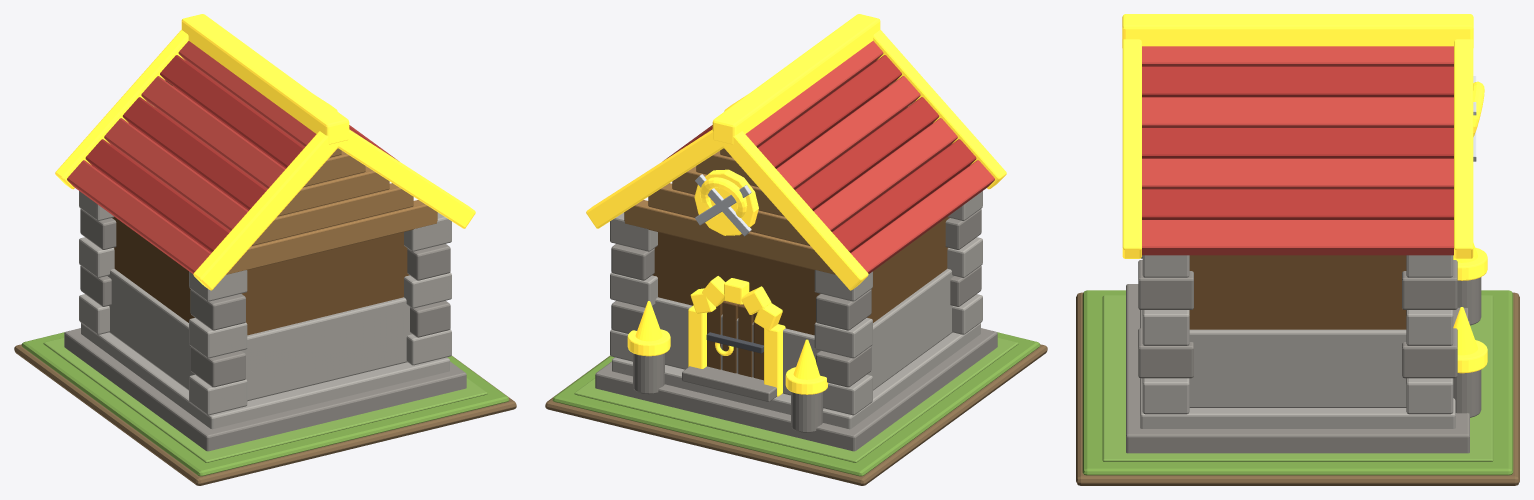
The model's file is hero_hall_lv4.glb.
3 renders of one model, left to right at view 1: azimuth 30°, elevation 25°; view 2: azimuth 150°, elevation 25°; view 3: azimuth 270°, elevation 25°, orthographic. The views are drawn at different scales.
Parts seen in each view (by area): view 1: HeroStoneWainscot, HeroHallCore, HeroPlinth1, Base_Grass, HeroPlinth2, RidgeBeam, Base_Inner, Base_Dirt, Bargeboard_-1_-1, Gable_-1_0, RoofSlope_-1_6, RoofSlope_-1_4 (+24 smaller); view 2: HeroHallCore, HeroPlinth1, HeroStoneWainscot, Base_Grass, RidgeBeam, Base_Inner, Base_Dirt, Bargeboard_1_-1, HeroPlinth2, RoofSlope_-1_6, RoofSlope_-1_4, RoofSlope_-1_3 (+44 smaller); view 3: HeroStoneWainscot, HeroHallCore, Base_Grass, RidgeBeam, RoofSlope_1_6, HeroPlinth1, RoofSlope_1_1, RoofSlope_1_4, Base_Inner, RoofSlope_1_2, RoofSlope_1_3, RoofSlope_1_5 (+20 smaller).
Boxes of the visible parts, x1,y1,x2,y2 form: HeroStoneWainscot: [108, 268, 412, 401]; HeroHallCore: [112, 217, 409, 335]; HeroPlinth1: [64, 328, 466, 451]; Base_Grass: [21, 332, 509, 476]; HeroPlinth2: [81, 323, 449, 429]; RidgeBeam: [181, 14, 349, 144]; Base_Inner: [43, 337, 487, 462]; Base_Dirt: [14, 344, 516, 485]; Bargeboard_-1_-1: [193, 131, 341, 290]; Gable_-1_0: [226, 200, 437, 274]; RoofSlope_-1_6: [67, 160, 211, 273]; RoofSlope_-1_4: [104, 118, 248, 231]; HeroHallCore: [652, 217, 949, 335]; HeroPlinth1: [595, 328, 997, 451]; HeroStoneWainscot: [652, 268, 953, 395]; Base_Grass: [552, 332, 1040, 476]; RidgeBeam: [712, 14, 880, 144]; Base_Inner: [574, 337, 1018, 462]; Base_Dirt: [545, 344, 1047, 485]; Bargeboard_1_-1: [720, 131, 868, 290]; HeroPlinth2: [612, 323, 980, 429]; RoofSlope_-1_6: [850, 160, 994, 273]; RoofSlope_-1_4: [813, 118, 957, 231]; RoofSlope_-1_3: [795, 97, 939, 210]; HeroStoneWainscot: [1189, 329, 1406, 407]; HeroHallCore: [1189, 255, 1406, 329]; Base_Grass: [1082, 290, 1513, 475]; RidgeBeam: [1122, 14, 1473, 47]; RoofSlope_1_6: [1142, 220, 1453, 255]; HeroPlinth1: [1126, 284, 1469, 453]; RoofSlope_1_1: [1142, 66, 1453, 97]; RoofSlope_1_4: [1142, 158, 1453, 189]; Base_Inner: [1102, 295, 1493, 461]; RoofSlope_1_2: [1142, 97, 1453, 127]; RoofSlope_1_3: [1142, 128, 1453, 158]; RoofSlope_1_5: [1142, 189, 1453, 219].
Size of the model in its own units: 2.76 by 2.57 by 2.76.
